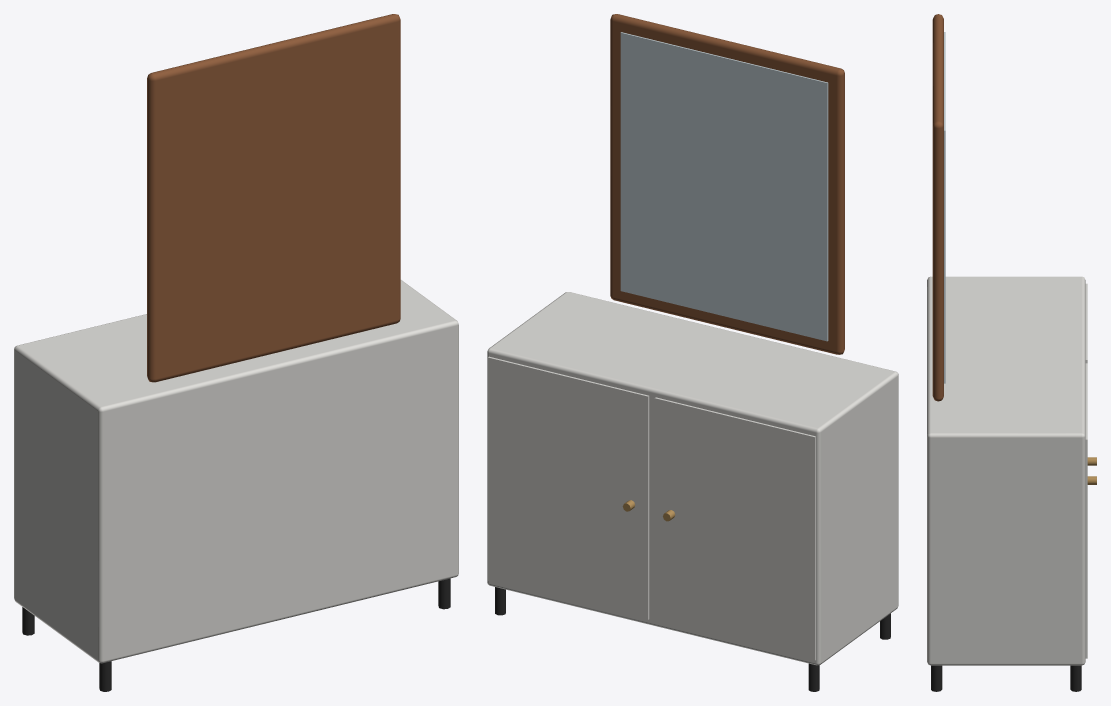
The picture shows the model from 3 angles, left to right: view 1: azimuth 30°, elevation 25°; view 2: azimuth 150°, elevation 25°; view 3: azimuth 270°, elevation 25°; orthographic projection. The views are drawn at different scales.
Parts seen in each view (by area): view 1: body, mirror-frame; view 2: mirror, body, drawer-left, drawer-right, mirror-frame; view 3: body, mirror-frame, drawer-right, mirror, leg-4, leg-2.
Part boxes in pixels (left/top/right/bottom): body: left=14, top=280, right=458, bottom=663; mirror-frame: left=147, top=14, right=400, bottom=382; mirror: left=620, top=32, right=828, bottom=341; body: left=487, top=292, right=898, bottom=665; drawer-left: left=654, top=397, right=815, bottom=660; drawer-right: left=488, top=356, right=649, bottom=619; mirror-frame: left=610, top=14, right=844, bottom=354; body: left=927, top=276, right=1085, bottom=665; mirror-frame: left=932, top=14, right=943, bottom=401; drawer-right: left=1085, top=363, right=1087, bottom=658; mirror: left=944, top=32, right=945, bottom=383; leg-4: left=931, top=665, right=942, bottom=691; leg-2: left=1070, top=665, right=1081, bottom=691.
Size of the model in its own units: 1 by 1.6 by 0.45.
